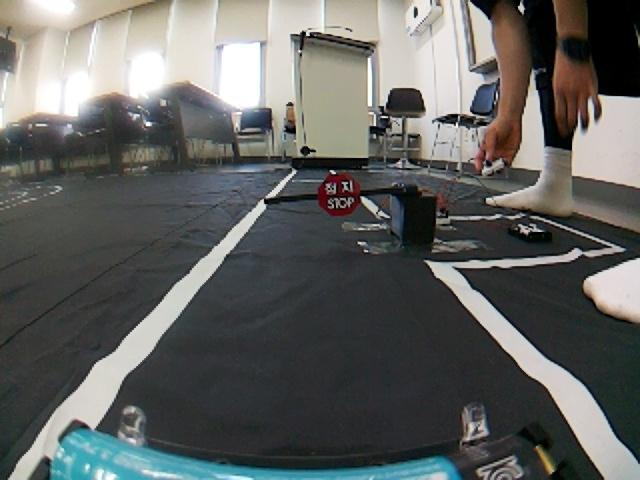sign_stop: (315, 171, 364, 217)
straight: (1, 179, 640, 480)
